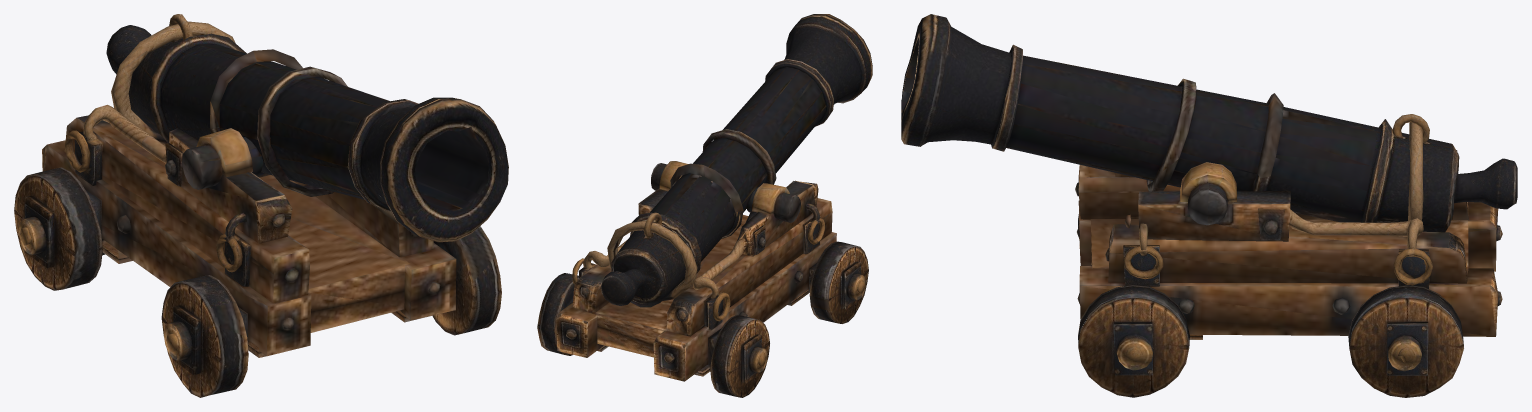
The model's file is naval-cannon.glb.
The picture shows the model from 3 angles, left to right: view 1: azimuth 30°, elevation 25°; view 2: azimuth 150°, elevation 25°; view 3: azimuth 270°, elevation 25°; orthographic projection. The views are drawn at different scales.
Parts seen in each view (by area): view 1: naval-cannon-v2_LOD0; view 2: naval-cannon-v2_LOD0; view 3: naval-cannon-v2_LOD0.
Part boxes in pixels (x1=…): naval-cannon-v2_LOD0: x1=14, y1=14, x2=508, y2=397; naval-cannon-v2_LOD0: x1=537, y1=14, x2=872, y2=397; naval-cannon-v2_LOD0: x1=901, y1=14, x2=1517, y2=397.
Size of what is drawn, in the model's own units: 0.5612 by 0.5655 by 1.
Materials: 1 (1 with a texture image).
